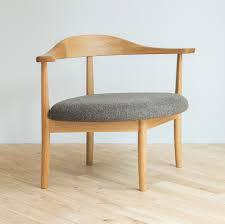chair: (18, 19, 196, 197)
